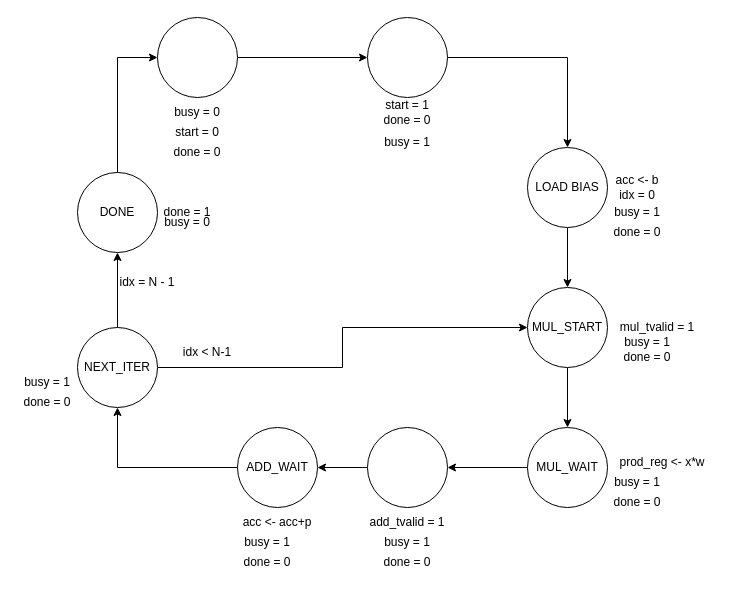
The diagram is 754 pixels wide and 595 high, and some of its shapes have lost their labels. The box of each missing label's shape, as (x1, y1, x2, y2) in pixels:
ADD_START: (366, 426, 448, 508)
IDLE: (156, 16, 238, 98)
START: (366, 16, 448, 98)
